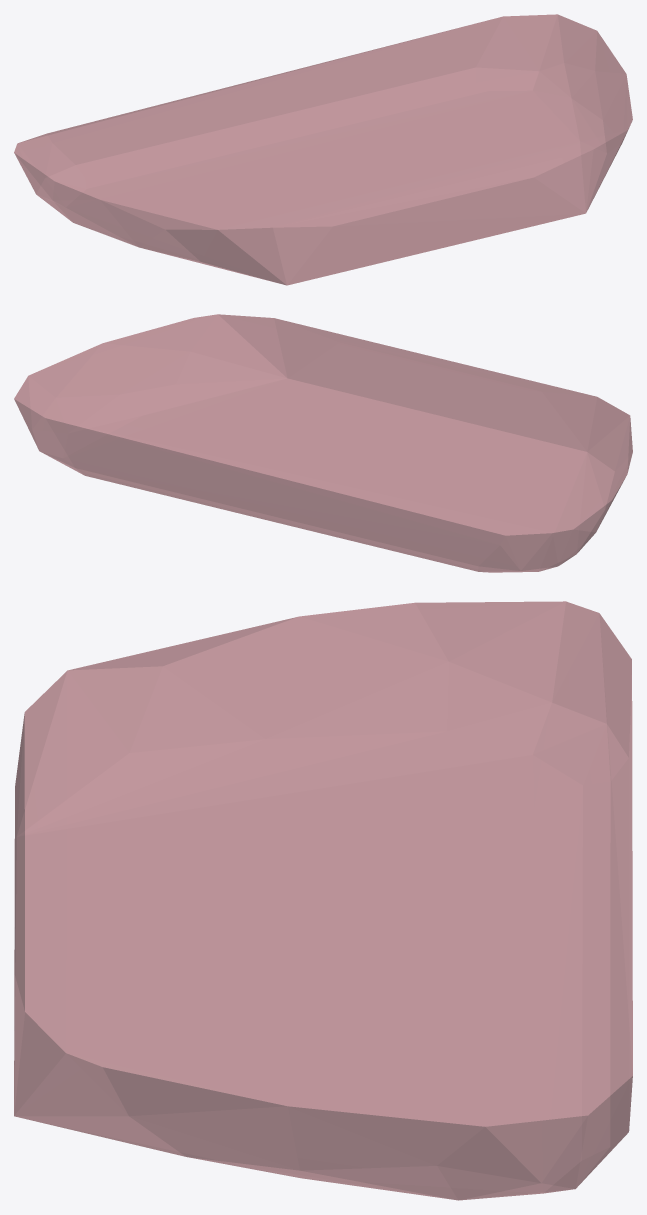
3 renders of one model, top to bottom at view 1: azimuth 30°, elevation 25°; view 2: azimuth 150°, elevation 25°; view 3: azimuth 270°, elevation 25°, orthographic. The views are drawn at different scales.
Visible parts, largest first — view 1: Shape_IndexedFaceSet.004_Shape_IndexedFaceSet.7490; view 2: Shape_IndexedFaceSet.004_Shape_IndexedFaceSet.7490; view 3: Shape_IndexedFaceSet.004_Shape_IndexedFaceSet.7490.
Part boxes in pixels (<box>): Shape_IndexedFaceSet.004_Shape_IndexedFaceSet.7490: <box>14,14,632,285</box>; Shape_IndexedFaceSet.004_Shape_IndexedFaceSet.7490: <box>14,314,632,572</box>; Shape_IndexedFaceSet.004_Shape_IndexedFaceSet.7490: <box>14,601,632,1200</box>.
Bounding box in the file's own units: 0.7739 × 0.079 × 0.3852.
